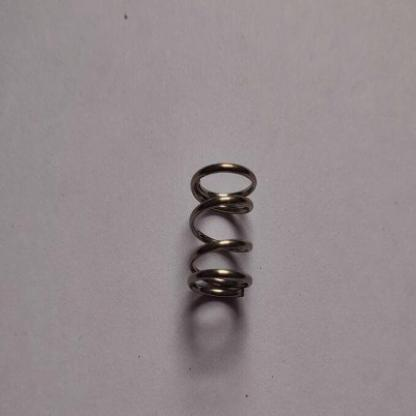FOD: (185, 158, 258, 308)
